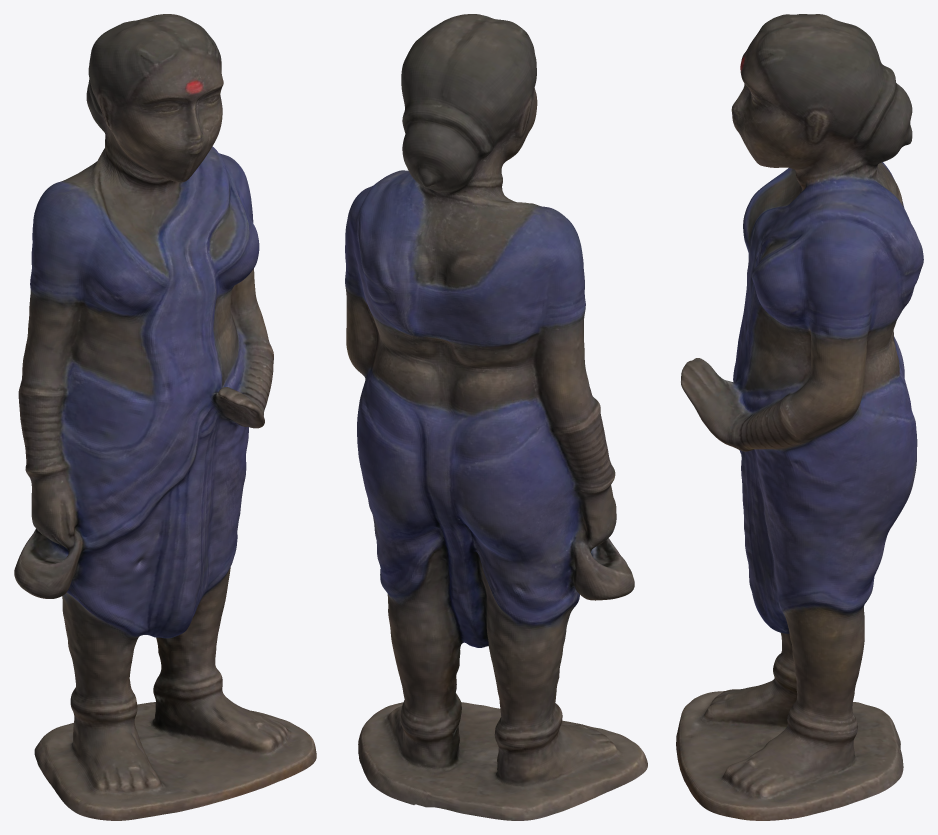
The model's file is female-with-blue-saree.glb.
The picture shows the model from 3 angles, left to right: view 1: azimuth 30°, elevation 25°; view 2: azimuth 150°, elevation 25°; view 3: azimuth 270°, elevation 25°; orthographic projection. The views are drawn at different scales.
Parts seen in each view (by area): view 1: 04 - Female with blue saree; view 2: 04 - Female with blue saree; view 3: 04 - Female with blue saree.
Part boxes in pixels (x1=…): 04 - Female with blue saree: x1=14, y1=14, x2=316, y2=820; 04 - Female with blue saree: x1=345, y1=14, x2=647, y2=820; 04 - Female with blue saree: x1=676, y1=14, x2=923, y2=820.
Bounding box in the file's own units: 0.1949 × 0.5 × 0.1525.
1 material, 1 textured.
